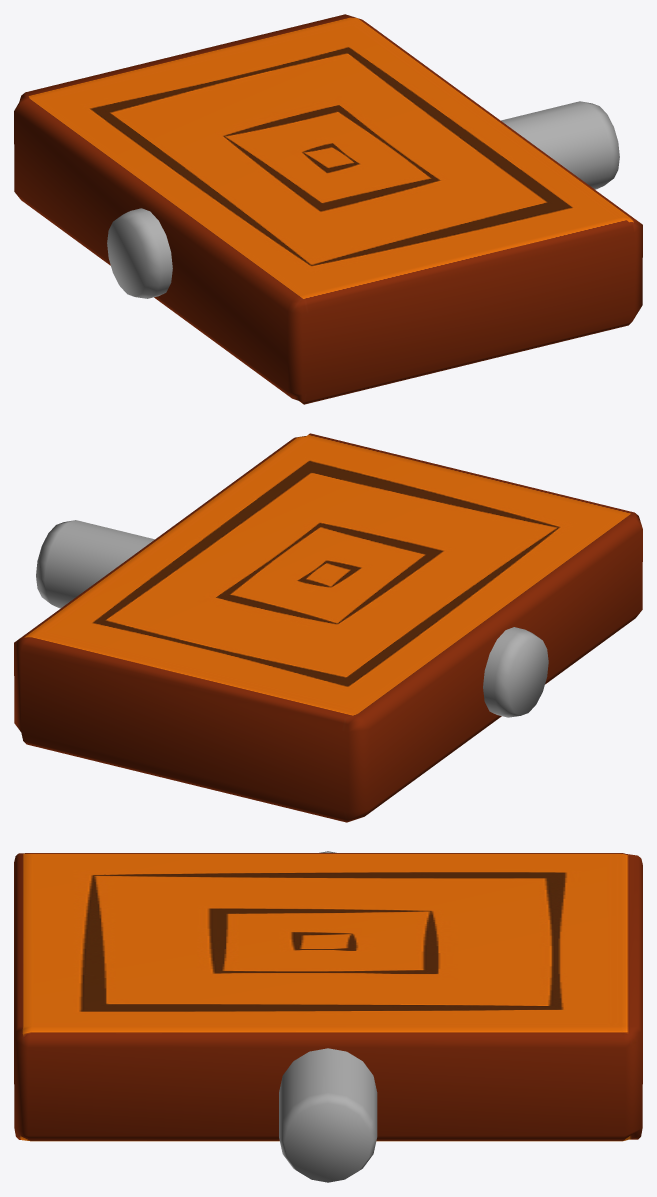
File: RotatingWood.fbx
3 views of the same model, one above another, from view 1: azimuth 30°, elevation 25°; view 2: azimuth 150°, elevation 25°; view 3: azimuth 270°, elevation 25° (orthographic). The views are drawn at different scales.
Visible parts, largest first — view 1: RotatingWood1, RotatingWood2; view 2: RotatingWood1, RotatingWood2; view 3: RotatingWood1, RotatingWood2.
Part boxes in pixels (bbox=[...]): RotatingWood1: bbox=[14, 14, 642, 404]; RotatingWood2: bbox=[107, 101, 619, 298]; RotatingWood1: bbox=[14, 433, 642, 822]; RotatingWood2: bbox=[36, 520, 548, 717]; RotatingWood1: bbox=[14, 853, 642, 1141]; RotatingWood2: bbox=[279, 851, 377, 1182].
Size of the model in its own units: 3.78 by 0.794 by 3.99.
